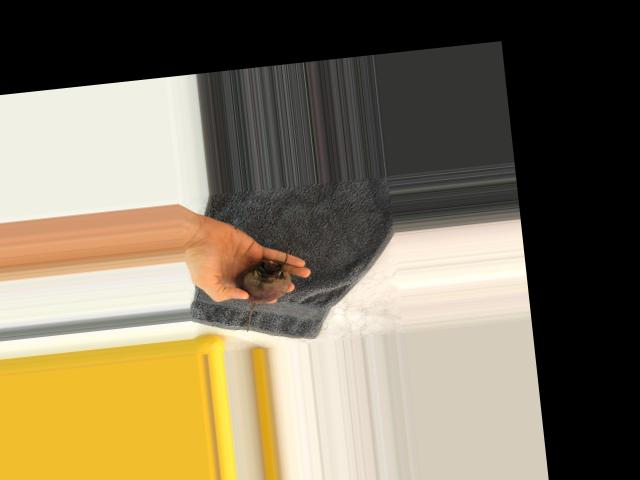beet: (233, 256, 295, 332)
